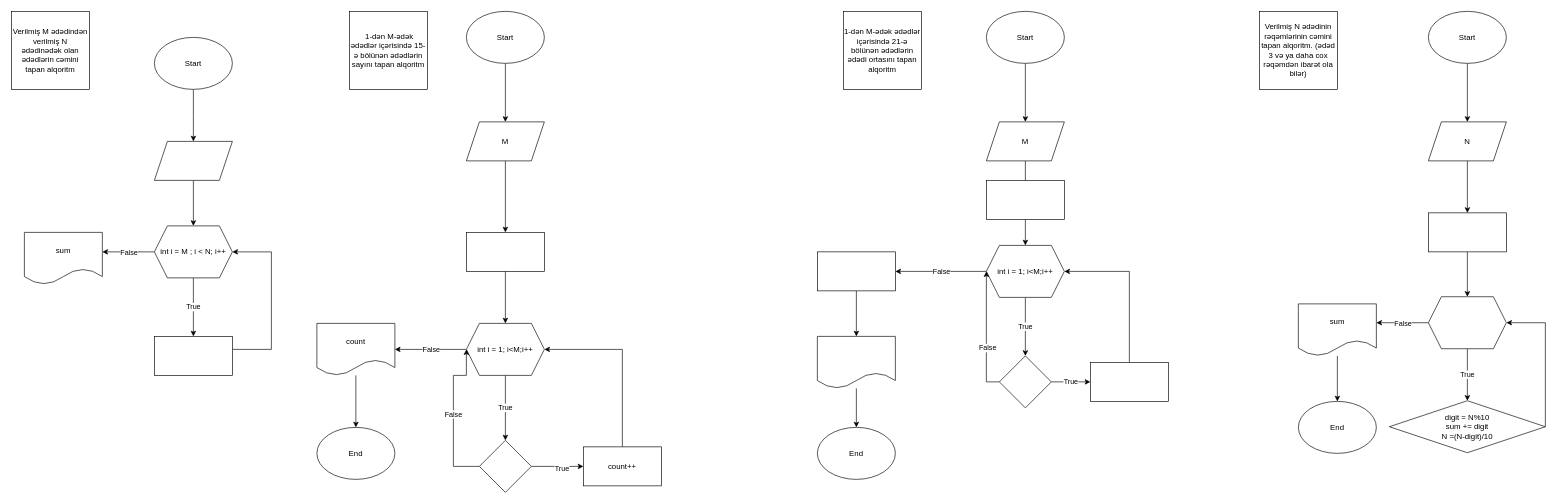
Some shapes in this 1562 by 504 pixel diagram are drawn without their labels. Each missing label, with the centre of its shape:
count = 0: (x=505, y=251)
count = 0 x = 0: (x=1025, y=199)
count++ x += i: (x=1129, y=381)
i%15 == 0: (x=505, y=466)
i%21 == 0: (x=1025, y=381)
M,N: (x=193, y=160)
result: (x=856, y=362)
result = x/count: (x=856, y=271)
sum += i: (x=193, y=355)
sum = 0: (x=1467, y=232)
while(N>0): (x=1467, y=322)
